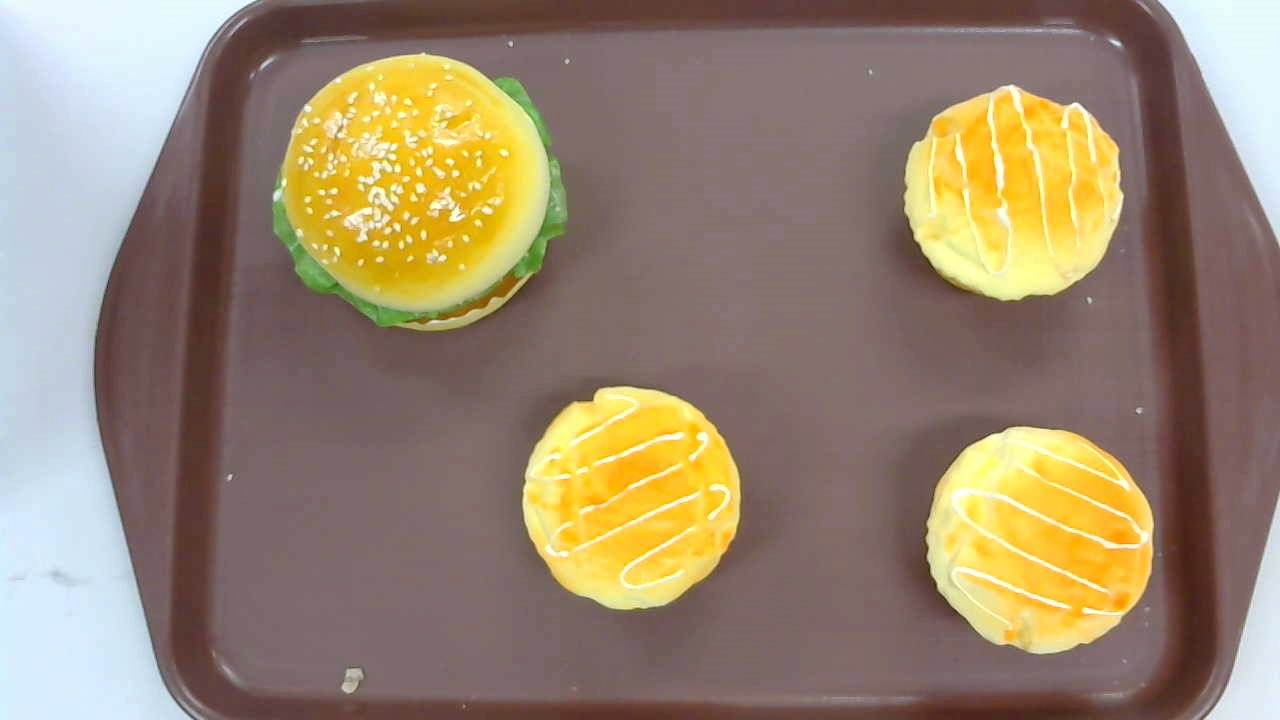cupcake: (926, 426, 1155, 654), (522, 385, 740, 610), (903, 84, 1124, 302)
hamburger: (273, 51, 571, 334)
